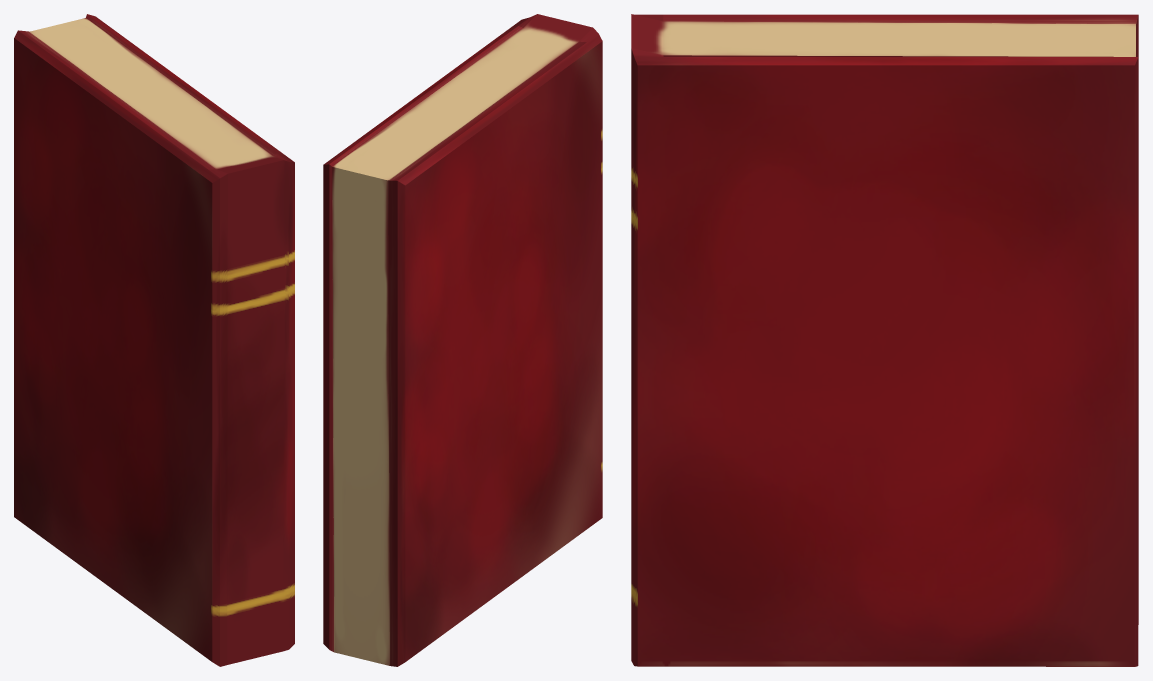
File: Kirja 1.fbx
3 renders of one model, left to right at view 1: azimuth 30°, elevation 25°; view 2: azimuth 150°, elevation 25°; view 3: azimuth 270°, elevation 25°, orthographic. The views are drawn at different scales.
Parts seen in each view (by area): view 1: Cube; view 2: Cube; view 3: Cube.
Part boxes in pixels (bbox=[...]): Cube: bbox=[14, 14, 294, 666]; Cube: bbox=[323, 14, 602, 666]; Cube: bbox=[631, 14, 1138, 666].
Bounding box in the file's own units: 14 × 80.72 × 60.1.
